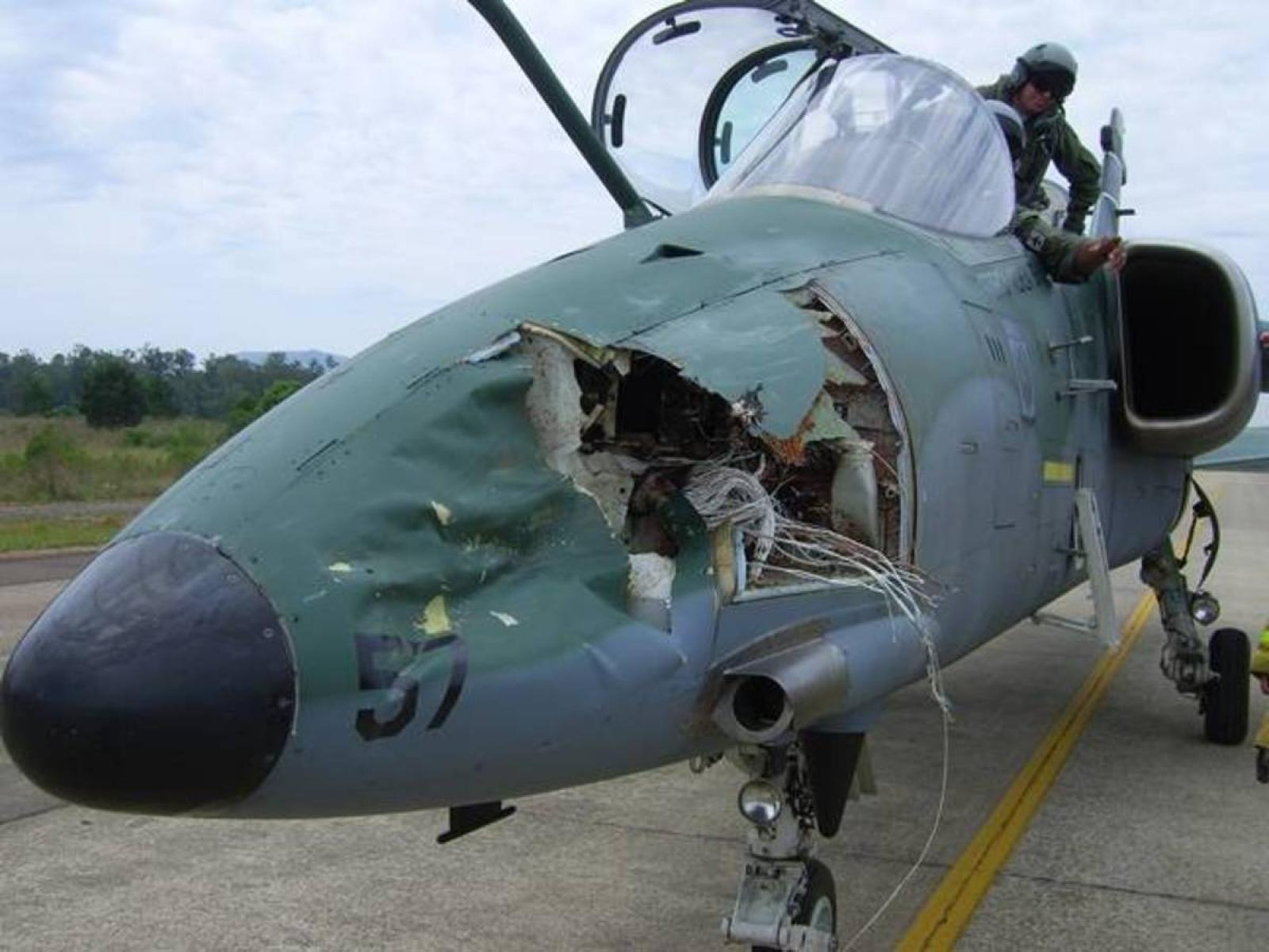Fuselage_damage: (370, 255, 952, 617), (574, 354, 889, 565), (526, 336, 640, 532)
